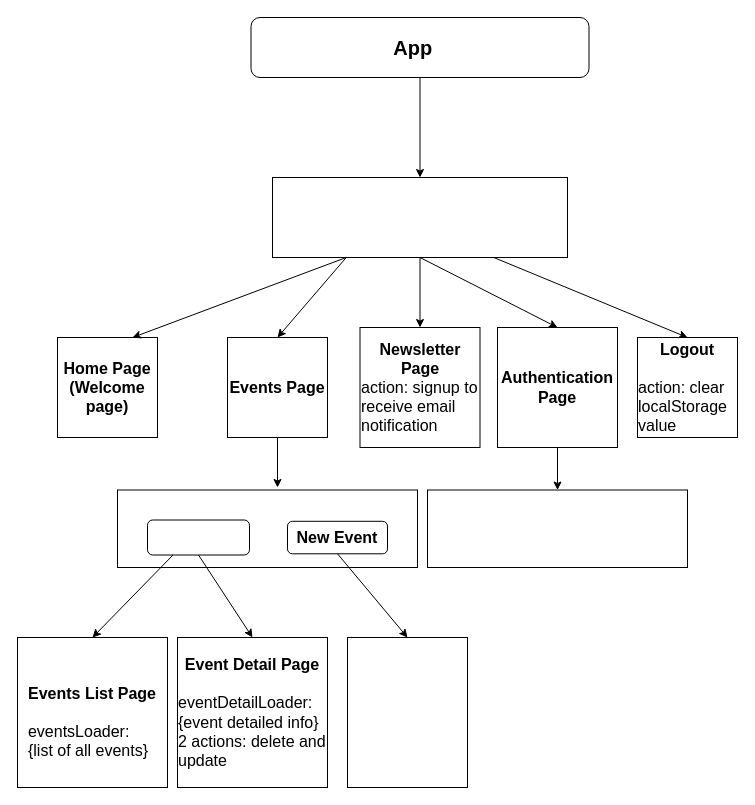
Image size: 755x805. Some labels were removed from this diagram. Each missing label, with the centre of its shape:
All Events: point 198,537
Login/signup pages action: signup or login function: point 557,528
MainNavigation: loader:{token}: point 420,217
New event page action: create new event with the user's input: point 407,712
